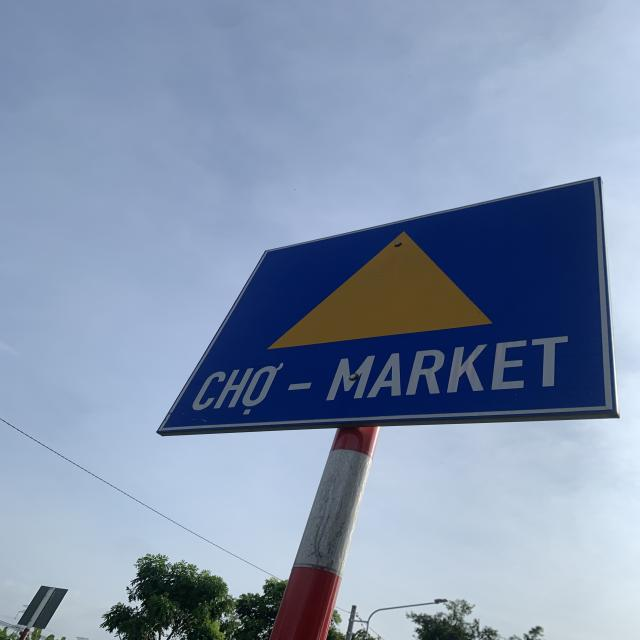Cho_Quay_Xe: (162, 178, 608, 428)
